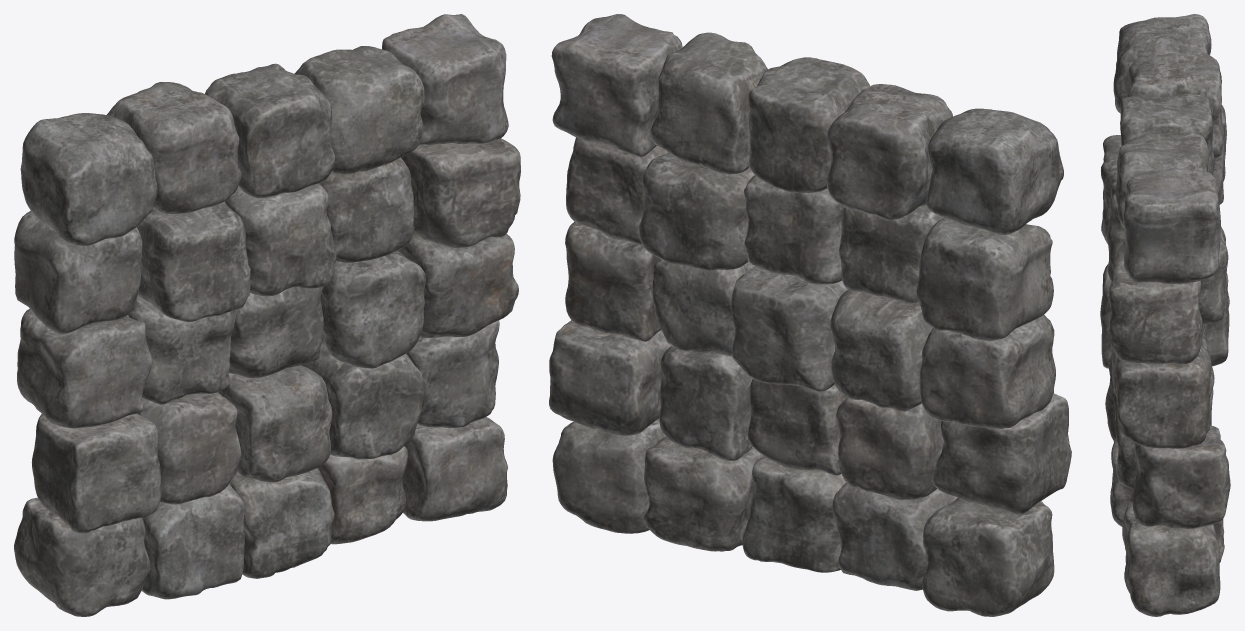
File: rocks_convex.gltf
3 views of the same model, side by side, from view 1: azimuth 30°, elevation 25°; view 2: azimuth 150°, elevation 25°; view 3: azimuth 270°, elevation 25° (orthographic). The views are drawn at different scales.
Parts seen in each view (by area): view 1: Object040, Object016, Object044, Object014, Object034, Object006, Object042, Object046, Object048, Object020, Object024, Object030 (+13 smaller); view 2: Object040, Object046, Object020, Object006, Object034, Object016, Object042, Object014, Object044, Object002, Object026, Object010 (+13 smaller); view 3: Object006, Object022, Object012, Object026, Object024, Object034, Object040, Object014, Object042, Object010, Object048, Object002 (+8 smaller).
Part boxes in pixels (box(x1,y1,x2,y2)): Object040: box(20, 113, 157, 246); Object016: box(17, 308, 152, 428); Object044: box(31, 413, 160, 533); Object014: box(205, 63, 334, 198); Object034: box(107, 82, 241, 214); Object006: box(382, 14, 508, 145); Object042: box(294, 46, 424, 174); Object046: box(14, 210, 142, 333); Object048: box(137, 201, 250, 322); Object020: box(14, 497, 150, 616); Object024: box(401, 138, 520, 248); Object030: box(320, 251, 425, 368); Object040: box(926, 108, 1063, 234); Object046: box(916, 217, 1053, 340); Object020: box(922, 497, 1054, 616); Object006: box(551, 14, 682, 157); Object034: box(826, 84, 952, 220); Object016: box(919, 315, 1055, 428); Object042: box(650, 32, 767, 174); Object014: box(748, 57, 869, 193); Object044: box(933, 393, 1071, 514); Object002: box(731, 266, 847, 391); Object026: box(549, 320, 670, 435); Object010: box(639, 153, 754, 270); Object006: box(1123, 168, 1220, 283); Object022: box(1122, 501, 1220, 616); Object012: box(1115, 338, 1211, 448); Object026: box(1132, 425, 1230, 528); Object024: box(1109, 254, 1203, 364); Object034: box(1127, 50, 1224, 158); Object040: box(1113, 14, 1211, 113); Object014: box(1120, 93, 1214, 175); Object042: box(1115, 132, 1209, 228); Object010: box(1199, 226, 1228, 324); Object048: box(1101, 135, 1121, 243); Object002: box(1206, 273, 1229, 366).
Size of the model in its own units: 189 by 185 by 52.05.
Materials: 1 (1 with a texture image).
